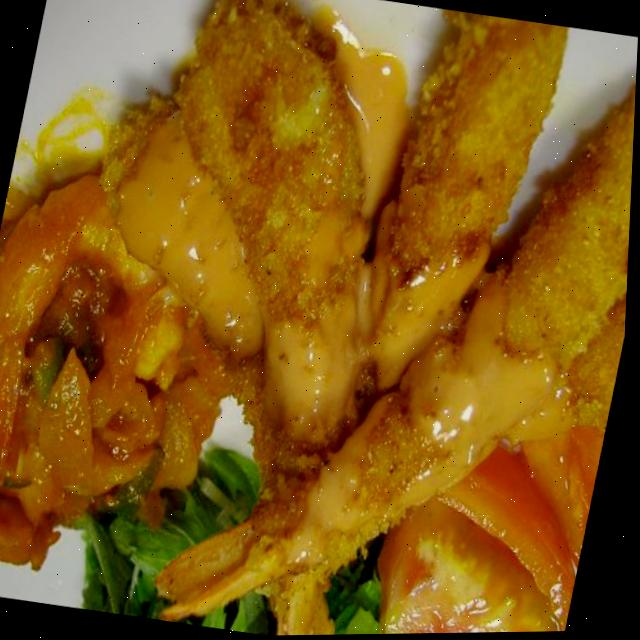炸货点心: (19, 0, 640, 640)
熟制海鲜: (19, 0, 640, 640)
